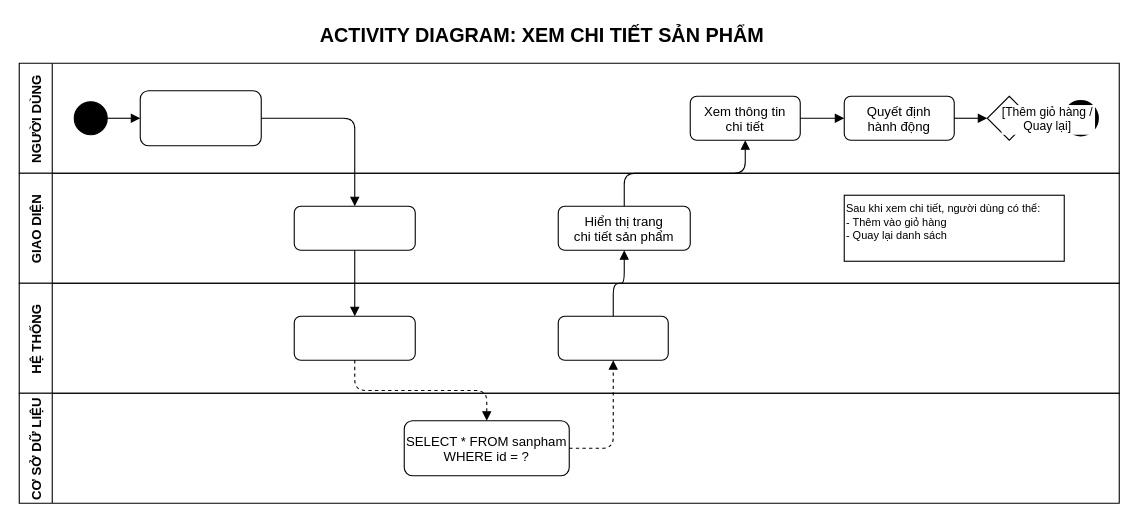
This 1139x523 diagram has some shape labels left out. The shapes that lost their labels are listed below. From the top down, each one's centre as x and y in pixels, then its label:
At (200,118): "Chọn sản phẩm từ danh sách".
At (354,227): "Gửi yêu cầu lấy chi tiết SP".
At (354,337): "Xử lý yêu cầu truy vấn SP".
At (612,337): "Format dữ liệu trả về".
